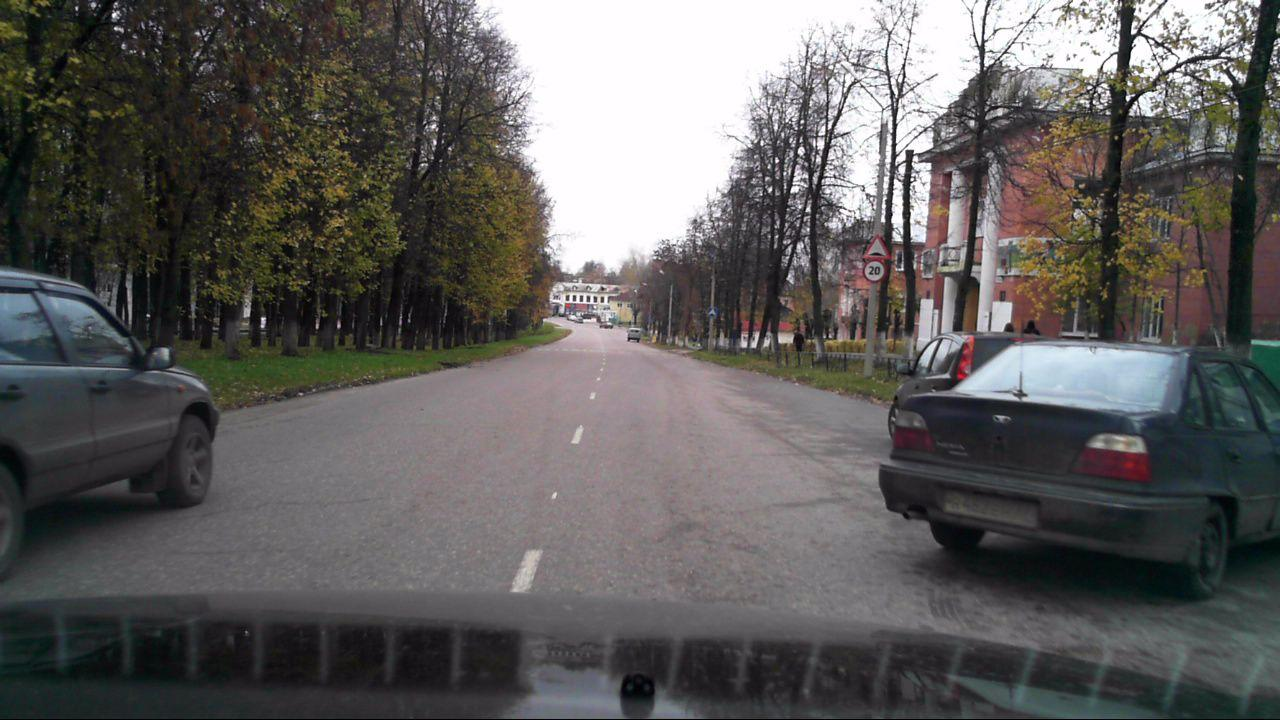1_17: (863, 234, 891, 259)
3_24: (863, 261, 887, 282)
5_20: (707, 308, 717, 317)
